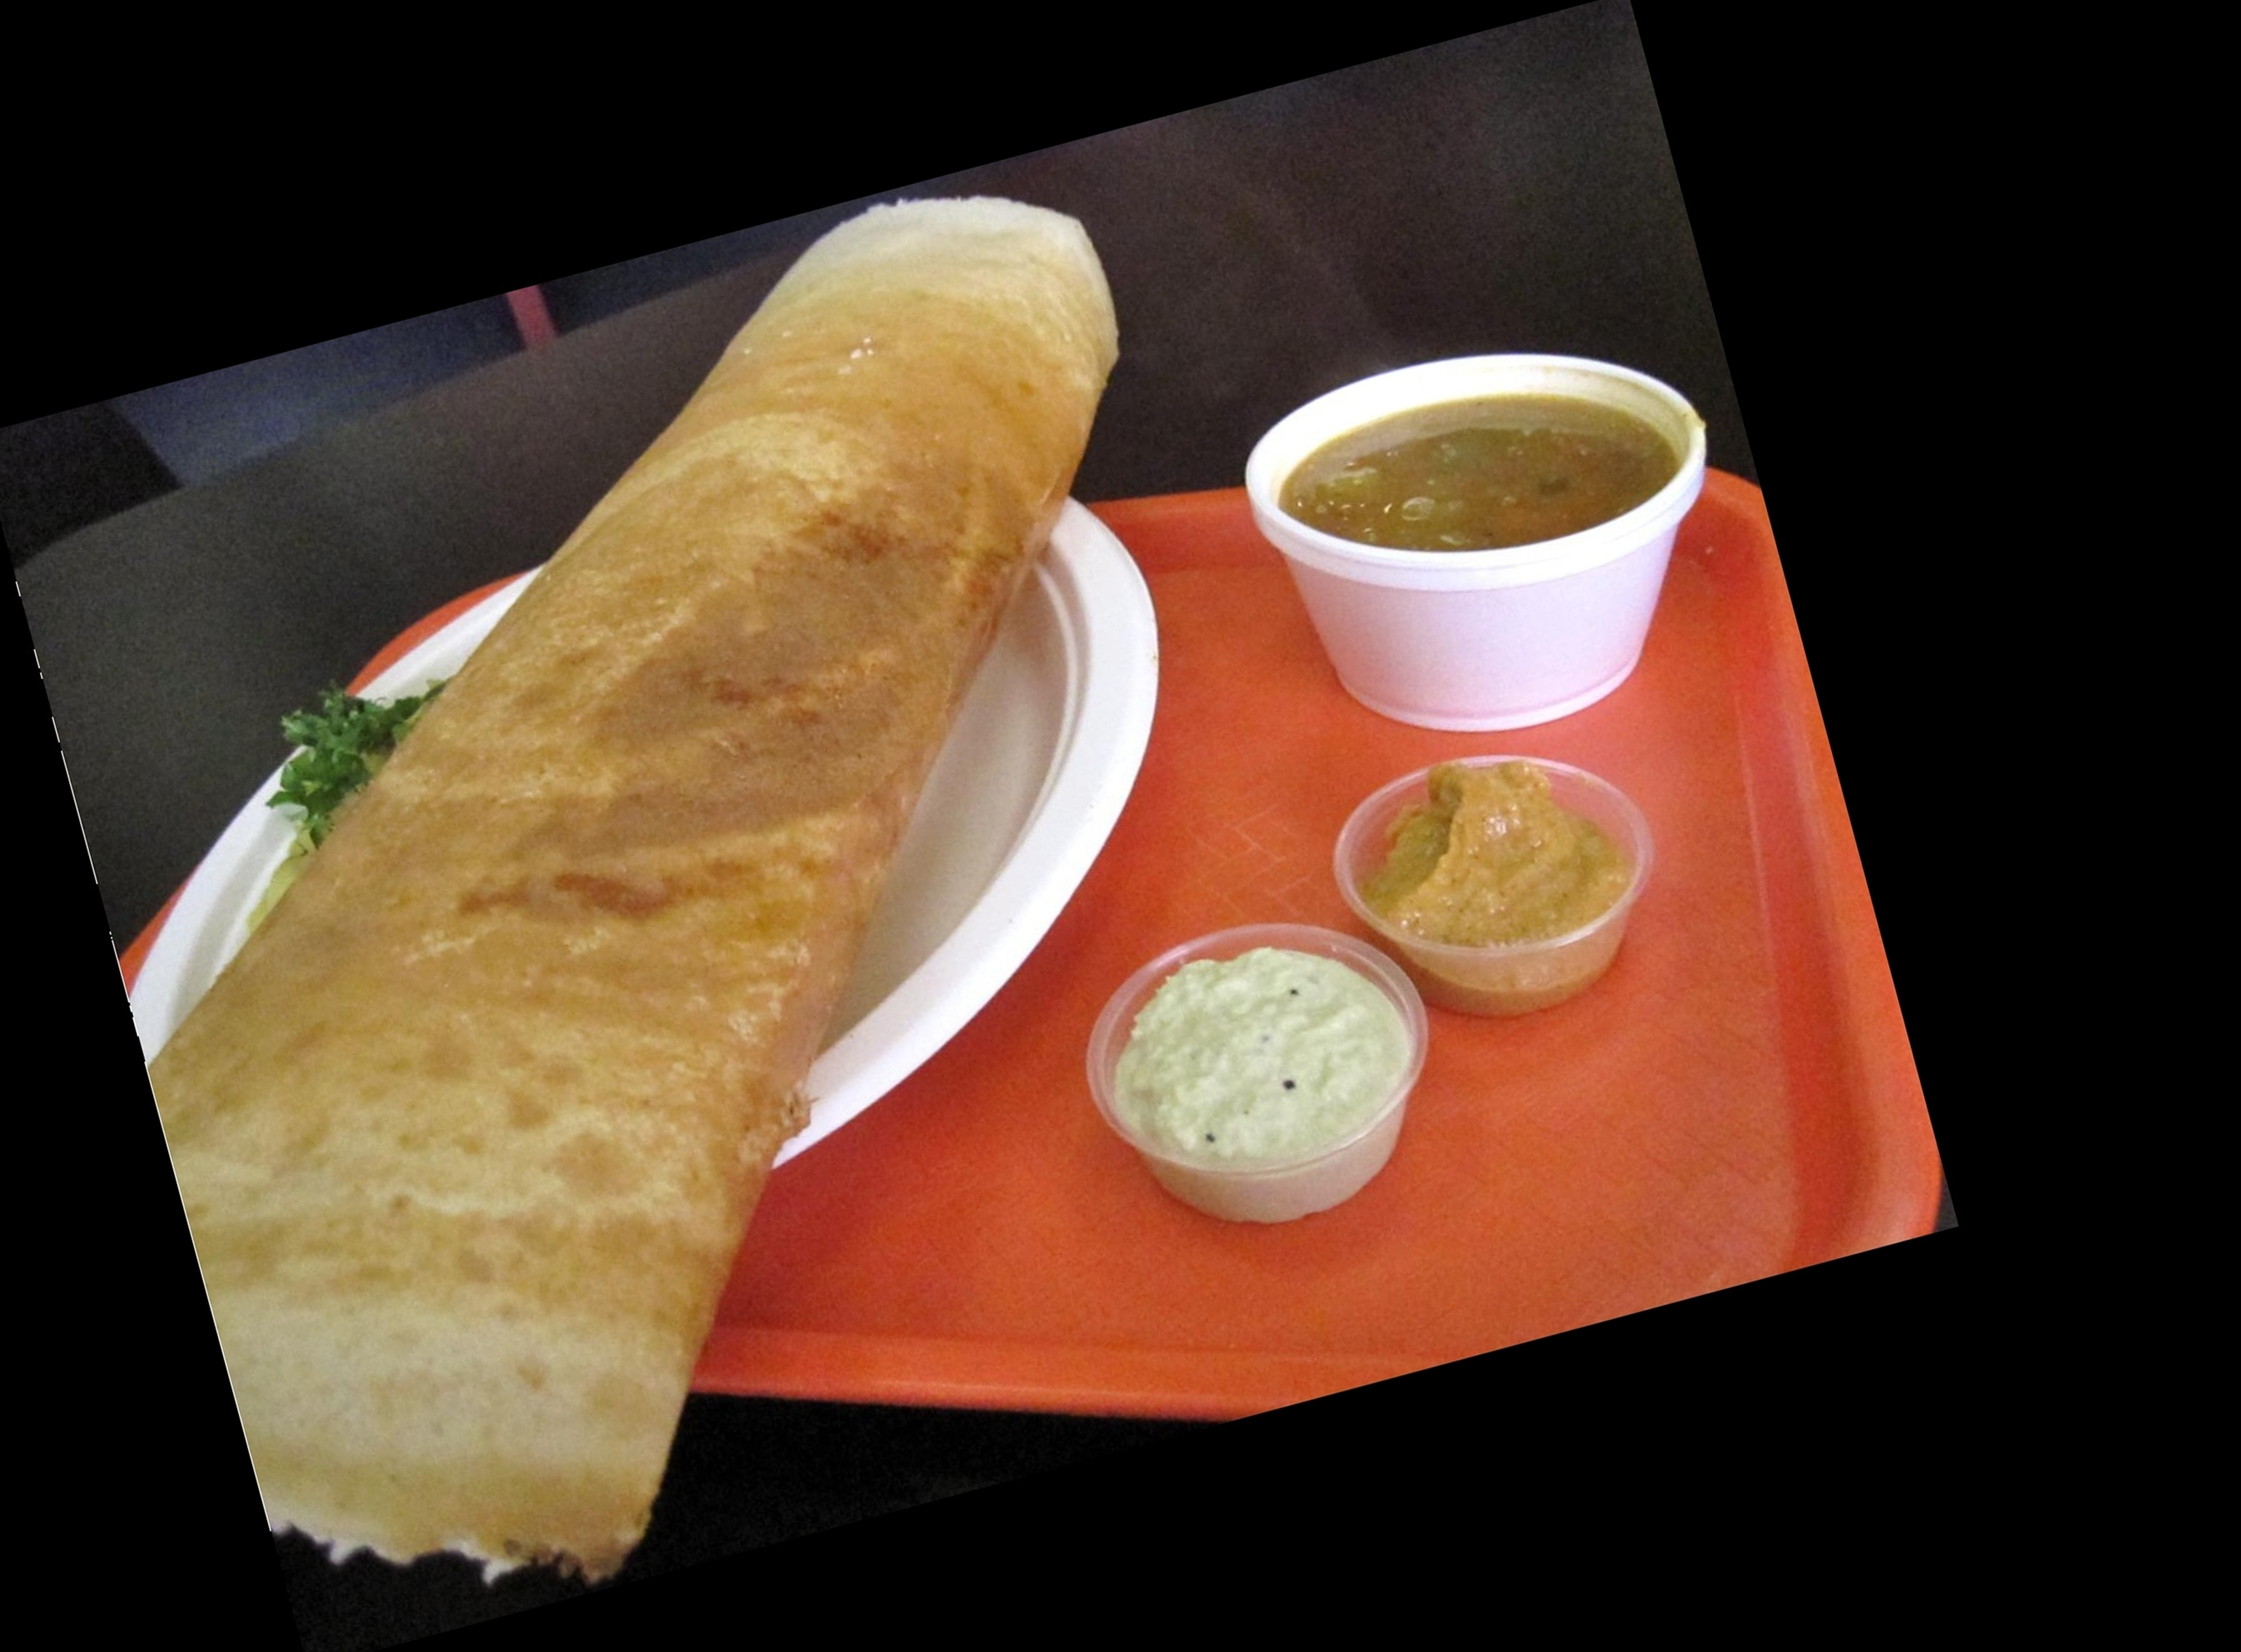dosa: (141, 190, 1138, 1650)
